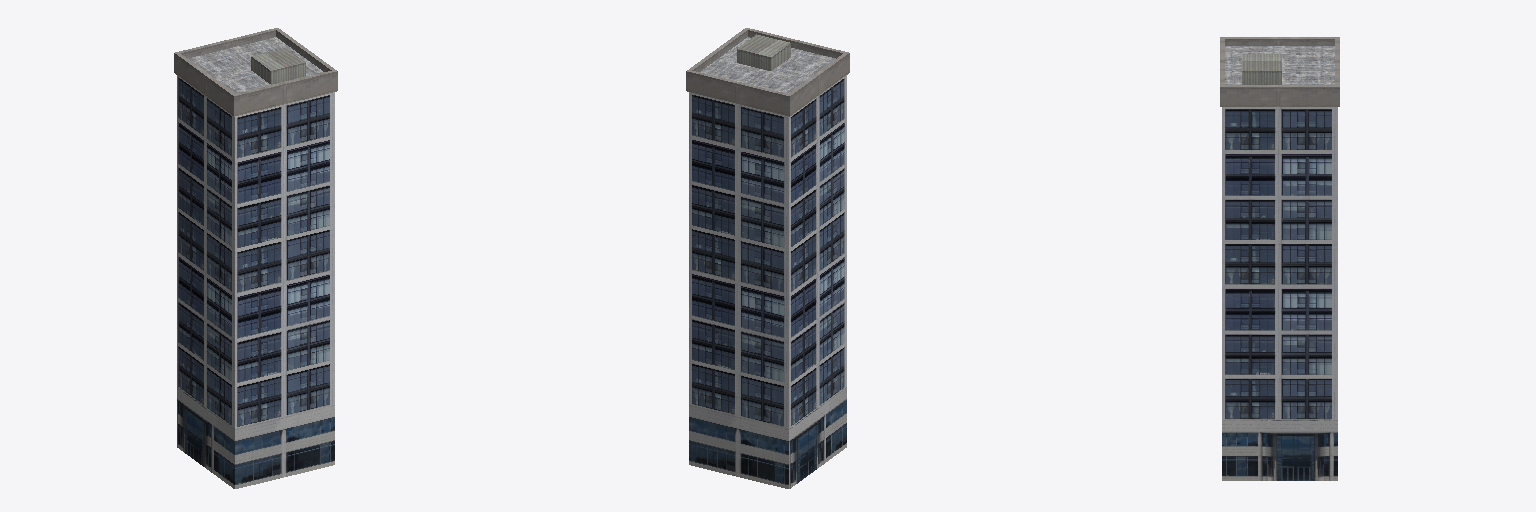
The picture shows the model from 3 angles: view 1: azimuth 30°, elevation 25°; view 2: azimuth 150°, elevation 25°; view 3: azimuth 270°, elevation 25°; orthographic projection.
Parts seen in each view (by area): view 1: building_27; view 2: building_27; view 3: building_27.
Part boxes in pixels (left/top/right/bottom): building_27: left=174, top=28, right=337, bottom=488; building_27: left=686, top=28, right=849, bottom=488; building_27: left=1220, top=37, right=1339, bottom=480.
Size of the model in its own units: 52.9 by 195 by 52.88.
1 materials, 1 textured.